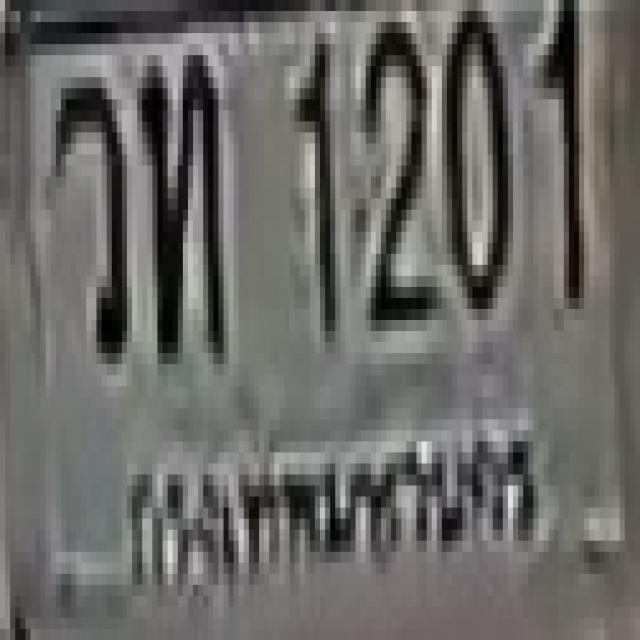-: (137, 44, 219, 353), (51, 66, 122, 353)
0: (442, 0, 508, 298)
1: (292, 28, 333, 336), (538, 0, 579, 298)
2: (358, 6, 429, 314)
BKK: (111, 407, 544, 614)
